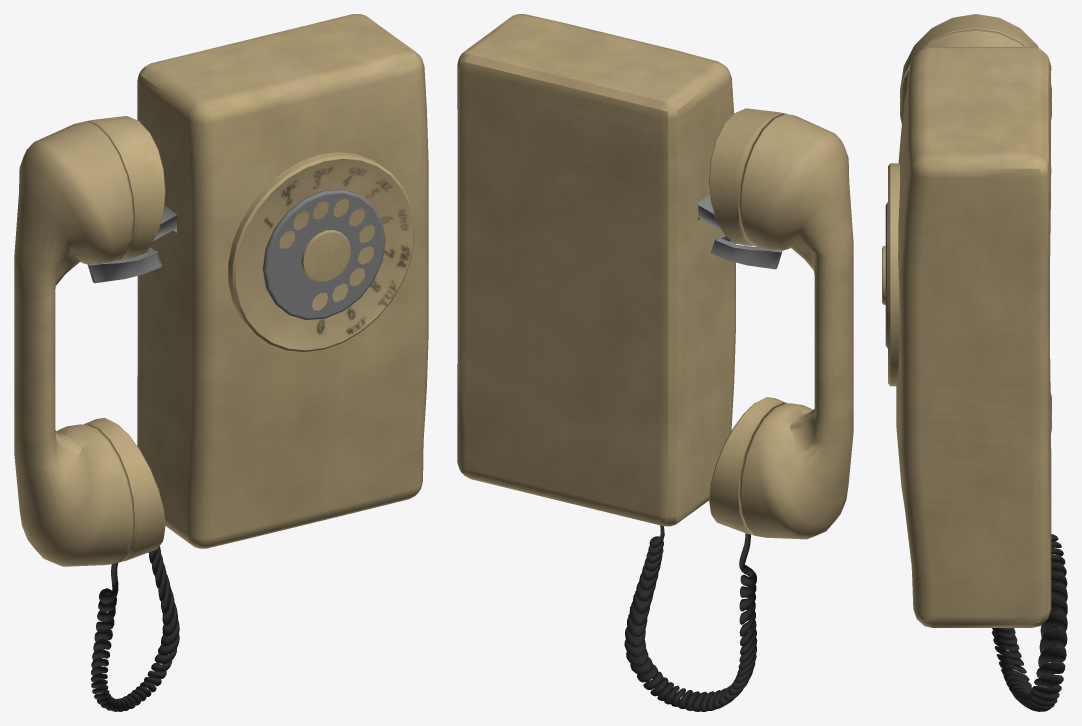
File: SM_WallPhone.fbx
The picture shows the model from 3 angles, left to right: view 1: azimuth 30°, elevation 25°; view 2: azimuth 150°, elevation 25°; view 3: azimuth 270°, elevation 25°; orthographic projection. The views are drawn at different scales.
Visible parts, largest first — view 1: Retro Phone, Dialer, Cable, Colgador; view 2: Retro Phone, Cable, Colgador; view 3: Retro Phone, Cable, Dialer.
Boxes of the visible parts, bbox=[...] form: Retro Phone: bbox=[14, 14, 428, 566]; Dialer: bbox=[262, 189, 385, 320]; Cable: bbox=[90, 546, 179, 711]; Colgador: bbox=[87, 205, 176, 283]; Retro Phone: bbox=[457, 14, 853, 539]; Cable: bbox=[624, 525, 757, 711]; Colgador: bbox=[698, 194, 782, 269]; Retro Phone: bbox=[882, 14, 1051, 627]; Cable: bbox=[991, 534, 1067, 711]; Dialer: bbox=[885, 202, 887, 348].
Bounding box in the file's own units: 0.2355 × 0.3761 × 0.0943.
3 materials, 1 textured.
